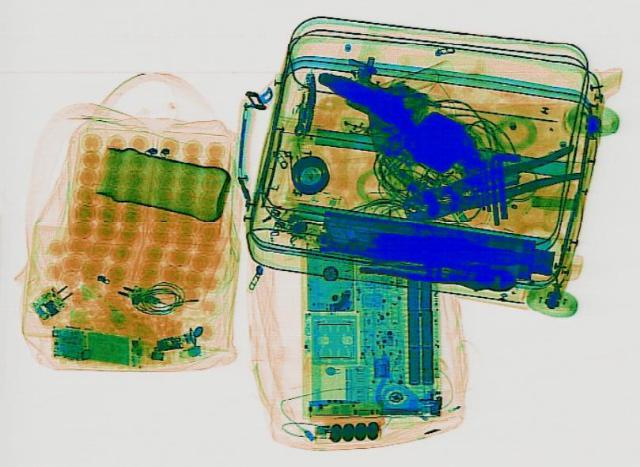Pliers: (394, 143, 592, 226)
